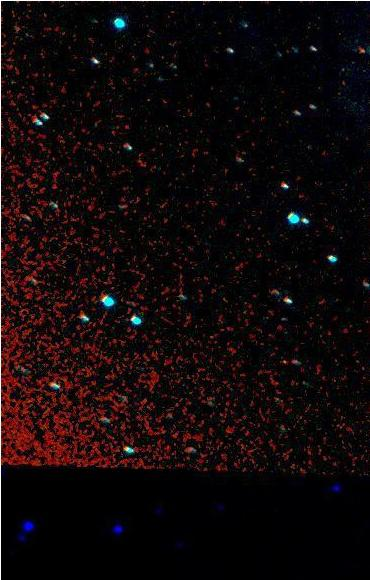star: (346, 34, 370, 64)
